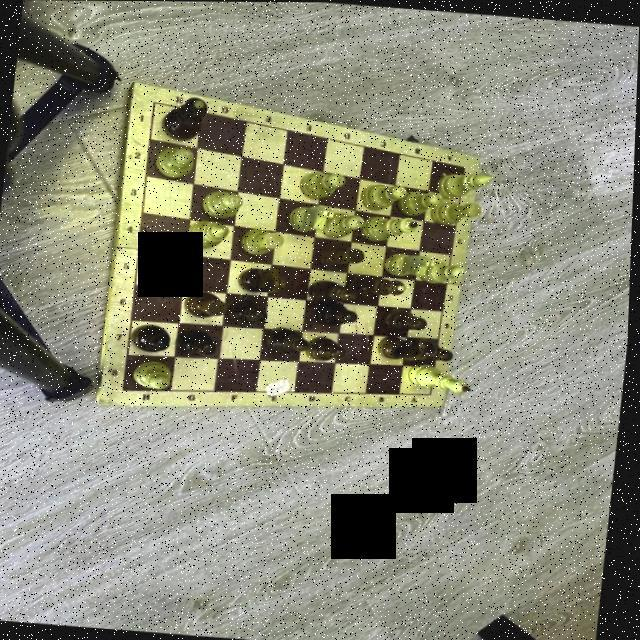chess-table-corners: (148, 98, 162, 109), (117, 385, 131, 396), (427, 389, 438, 398), (459, 162, 468, 170)
